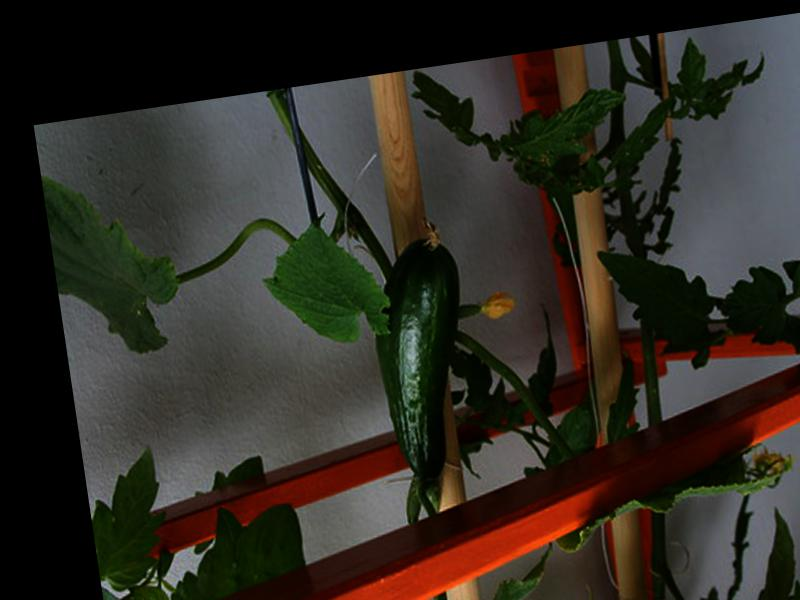Cucumber: (360, 218, 486, 482)
